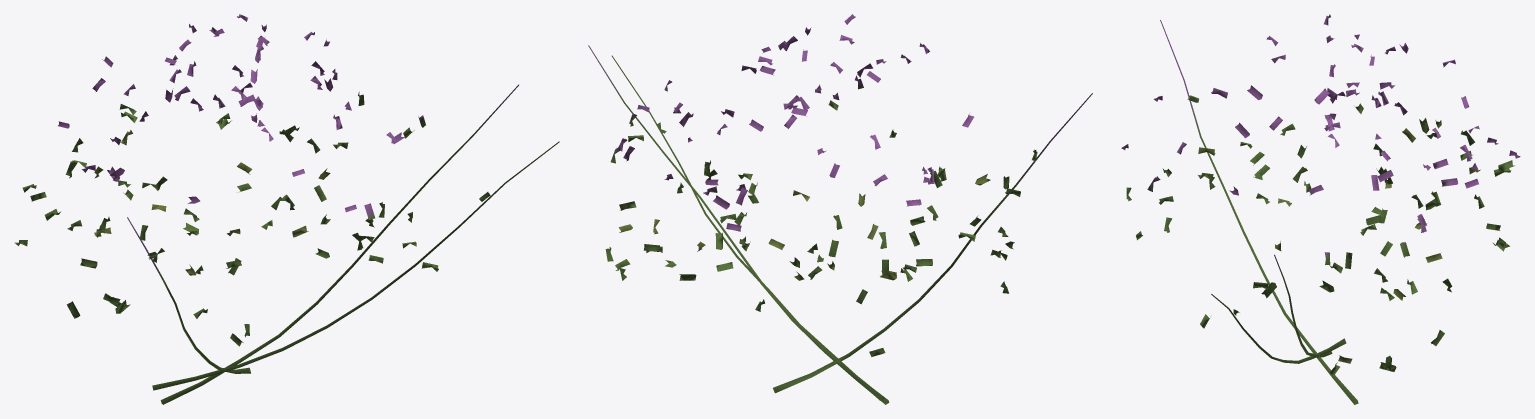
Rendered from capim_florido_longe.glb.
3 renders of one model, left to right at view 1: azimuth 30°, elevation 25°; view 2: azimuth 150°, elevation 25°; view 3: azimuth 270°, elevation 25°, orthographic.
Parts seen in each view (by area): view 1: capim_florido_longe; view 2: capim_florido_longe; view 3: capim_florido_longe.
Boxes of the visible parts, x1,y1,x2,y2 form: capim_florido_longe: (14,14,559,404); capim_florido_longe: (588,14,1092,404); capim_florido_longe: (1121,14,1520,404).
Size of the model in its own units: 0.9068 by 0.6728 by 0.6942.
